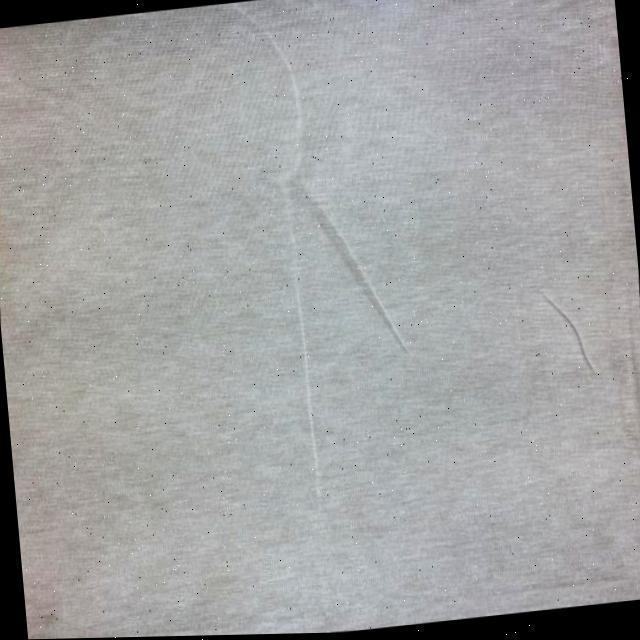pulled_or_thick_thread: (228, 4, 308, 187), (290, 212, 322, 502)
